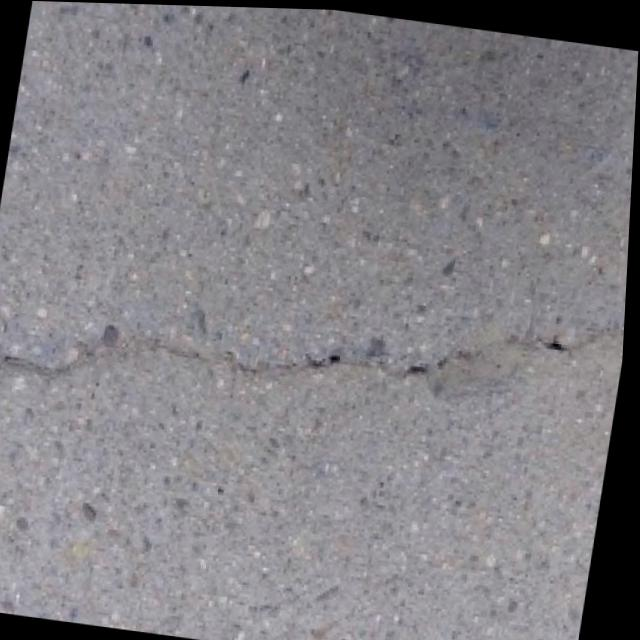Crack: (0, 219, 631, 482)
